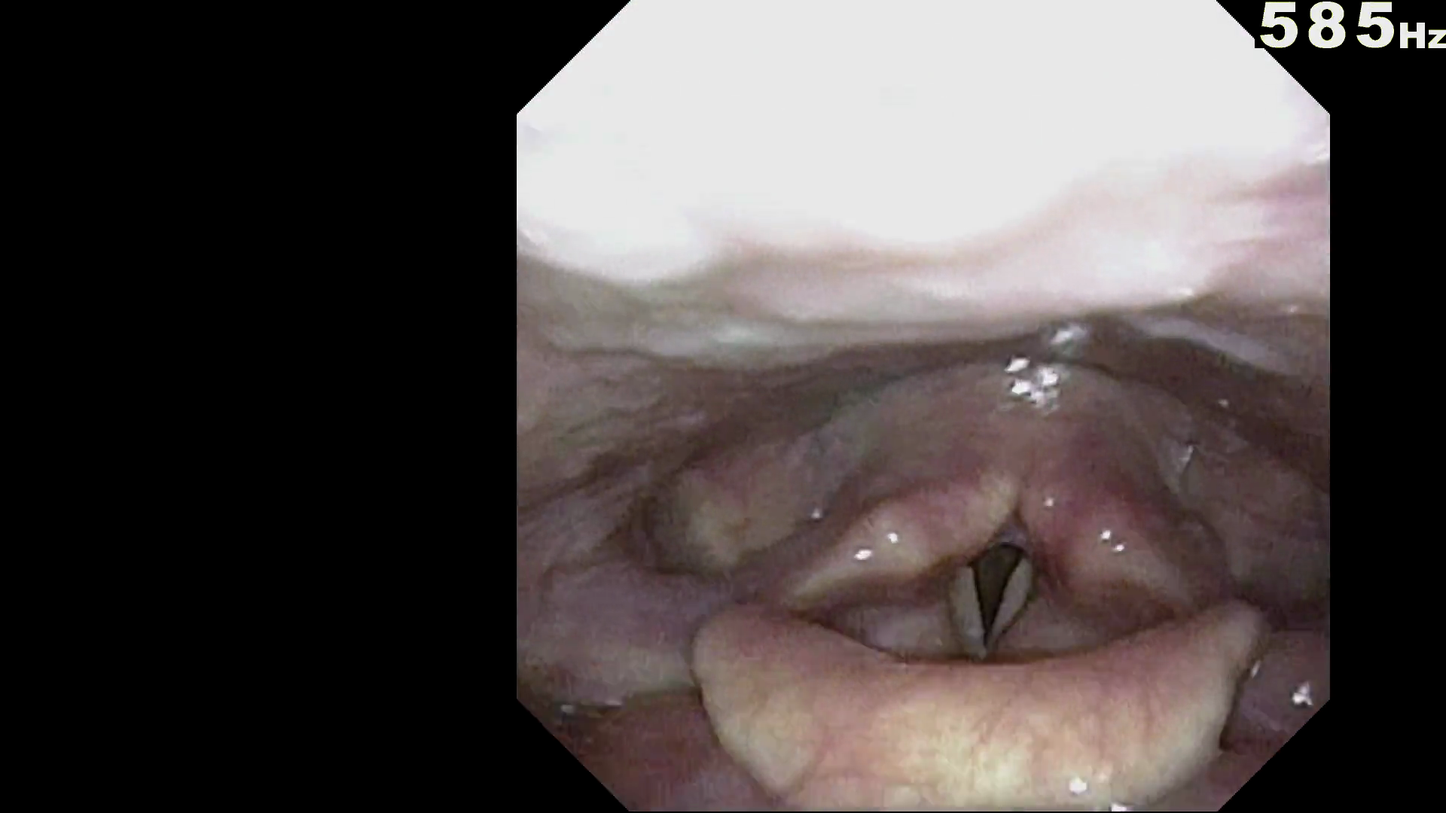epiglottis: (675, 601, 1217, 740)
trachea: (920, 533, 1048, 627)
